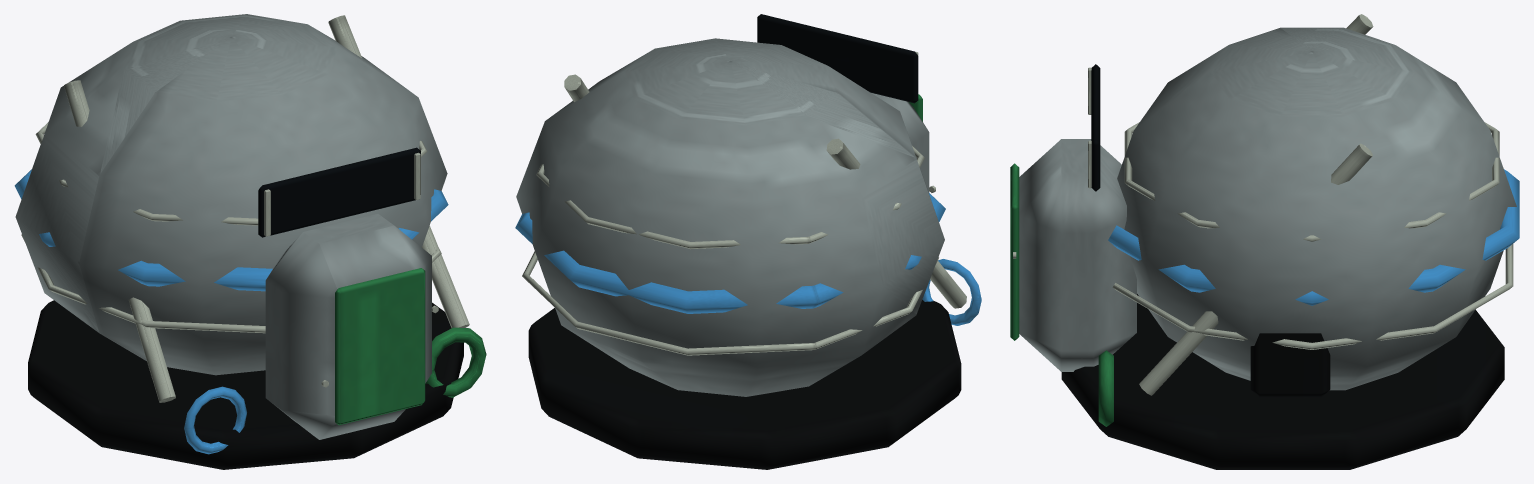
Rendered from haven-shelter-low.glb.
The picture shows the model from 3 angles, left to right: view 1: azimuth 30°, elevation 25°; view 2: azimuth 150°, elevation 25°; view 3: azimuth 270°, elevation 25°; orthographic projection.
Visible parts, largest first — view 1: Haven_Shell.001, Haven_Foundation.001, Haven_Airlock.001, Haven_Door.001, Haven_Window.001, Haven_Water_Band.001, Haven_Canopy_-0.001, Haven_Canopy_0.001, PORT_Life.006, Haven_Shell_Seam_Low.001, PORT_Signal.007, Haven_Shell_Seam_High.001; view 2: Haven_Shell.001, Haven_Foundation.001, Haven_Window.001, Haven_Water_Band.001, Haven_Shell_Seam_Low.001, Haven_Shell_Seam_High.001, Haven_Canopy_-0.001, Haven_Airlock.001, PORT_Signal.007; view 3: Haven_Shell.001, Haven_Foundation.001, Haven_Airlock.001, Haven_Life_Service.001, Haven_Water_Band.001, Haven_Shell_Seam_Low.001, Haven_Canopy_0.001, Haven_Shell_Seam_High.001, Haven_Door.001, Haven_Window.001, PORT_Life.006.
Part boxes in pixels (box(x1,y1,x2,y2)): Haven_Shell.001: box(15, 14, 447, 375); Haven_Foundation.001: box(28, 300, 463, 469); Haven_Airlock.001: box(265, 214, 431, 439); Haven_Door.001: box(335, 268, 425, 425); Haven_Window.001: box(258, 147, 420, 237); Haven_Water_Band.001: box(14, 169, 448, 291); Haven_Canopy_-0.001: box(64, 80, 175, 402); Haven_Canopy_0.001: box(328, 15, 469, 327); PORT_Life.006: box(425, 327, 486, 397); Haven_Shell_Seam_Low.001: box(21, 234, 441, 333); PORT_Signal.007: box(184, 386, 246, 454); Haven_Shell_Seam_High.001: box(35, 122, 427, 225); Haven_Shell.001: box(516, 38, 944, 396); Haven_Foundation.001: box(528, 299, 961, 469); Haven_Window.001: box(757, 14, 918, 103); Haven_Water_Band.001: box(515, 192, 945, 313); Haven_Shell_Seam_Low.001: box(522, 251, 938, 355); Haven_Shell_Seam_High.001: box(536, 146, 924, 248); Haven_Canopy_-0.001: box(826, 138, 966, 308); Haven_Airlock.001: box(871, 93, 929, 192); PORT_Signal.007: box(922, 259, 981, 325); Haven_Shell.001: box(1117, 27, 1516, 390); Haven_Foundation.001: box(1061, 294, 1504, 469); Haven_Airlock.001: box(1019, 139, 1136, 371); Haven_Life_Service.001: box(1250, 333, 1330, 397); Haven_Water_Band.001: box(1108, 169, 1519, 305); Haven_Shell_Seam_Low.001: box(1112, 244, 1513, 349); Haven_Canopy_0.001: box(1139, 143, 1372, 395); Haven_Shell_Seam_High.001: box(1124, 122, 1499, 241); Haven_Door.001: box(1010, 163, 1019, 340); Haven_Window.001: box(1091, 64, 1100, 191); PORT_Life.006: box(1098, 350, 1113, 426).
Bounding box in the file's own units: 1.21 × 1.01 × 1.41.
6 materials, 6 textured.
